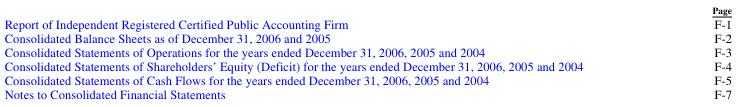table: (3, 3, 730, 101)
table column: (3, 3, 647, 101), (647, 3, 730, 101)
table column header: (3, 3, 730, 15)
table row: (3, 85, 730, 101), (3, 15, 730, 29), (3, 29, 730, 43), (3, 43, 730, 57), (3, 57, 730, 71), (3, 71, 730, 85), (3, 3, 730, 15)
